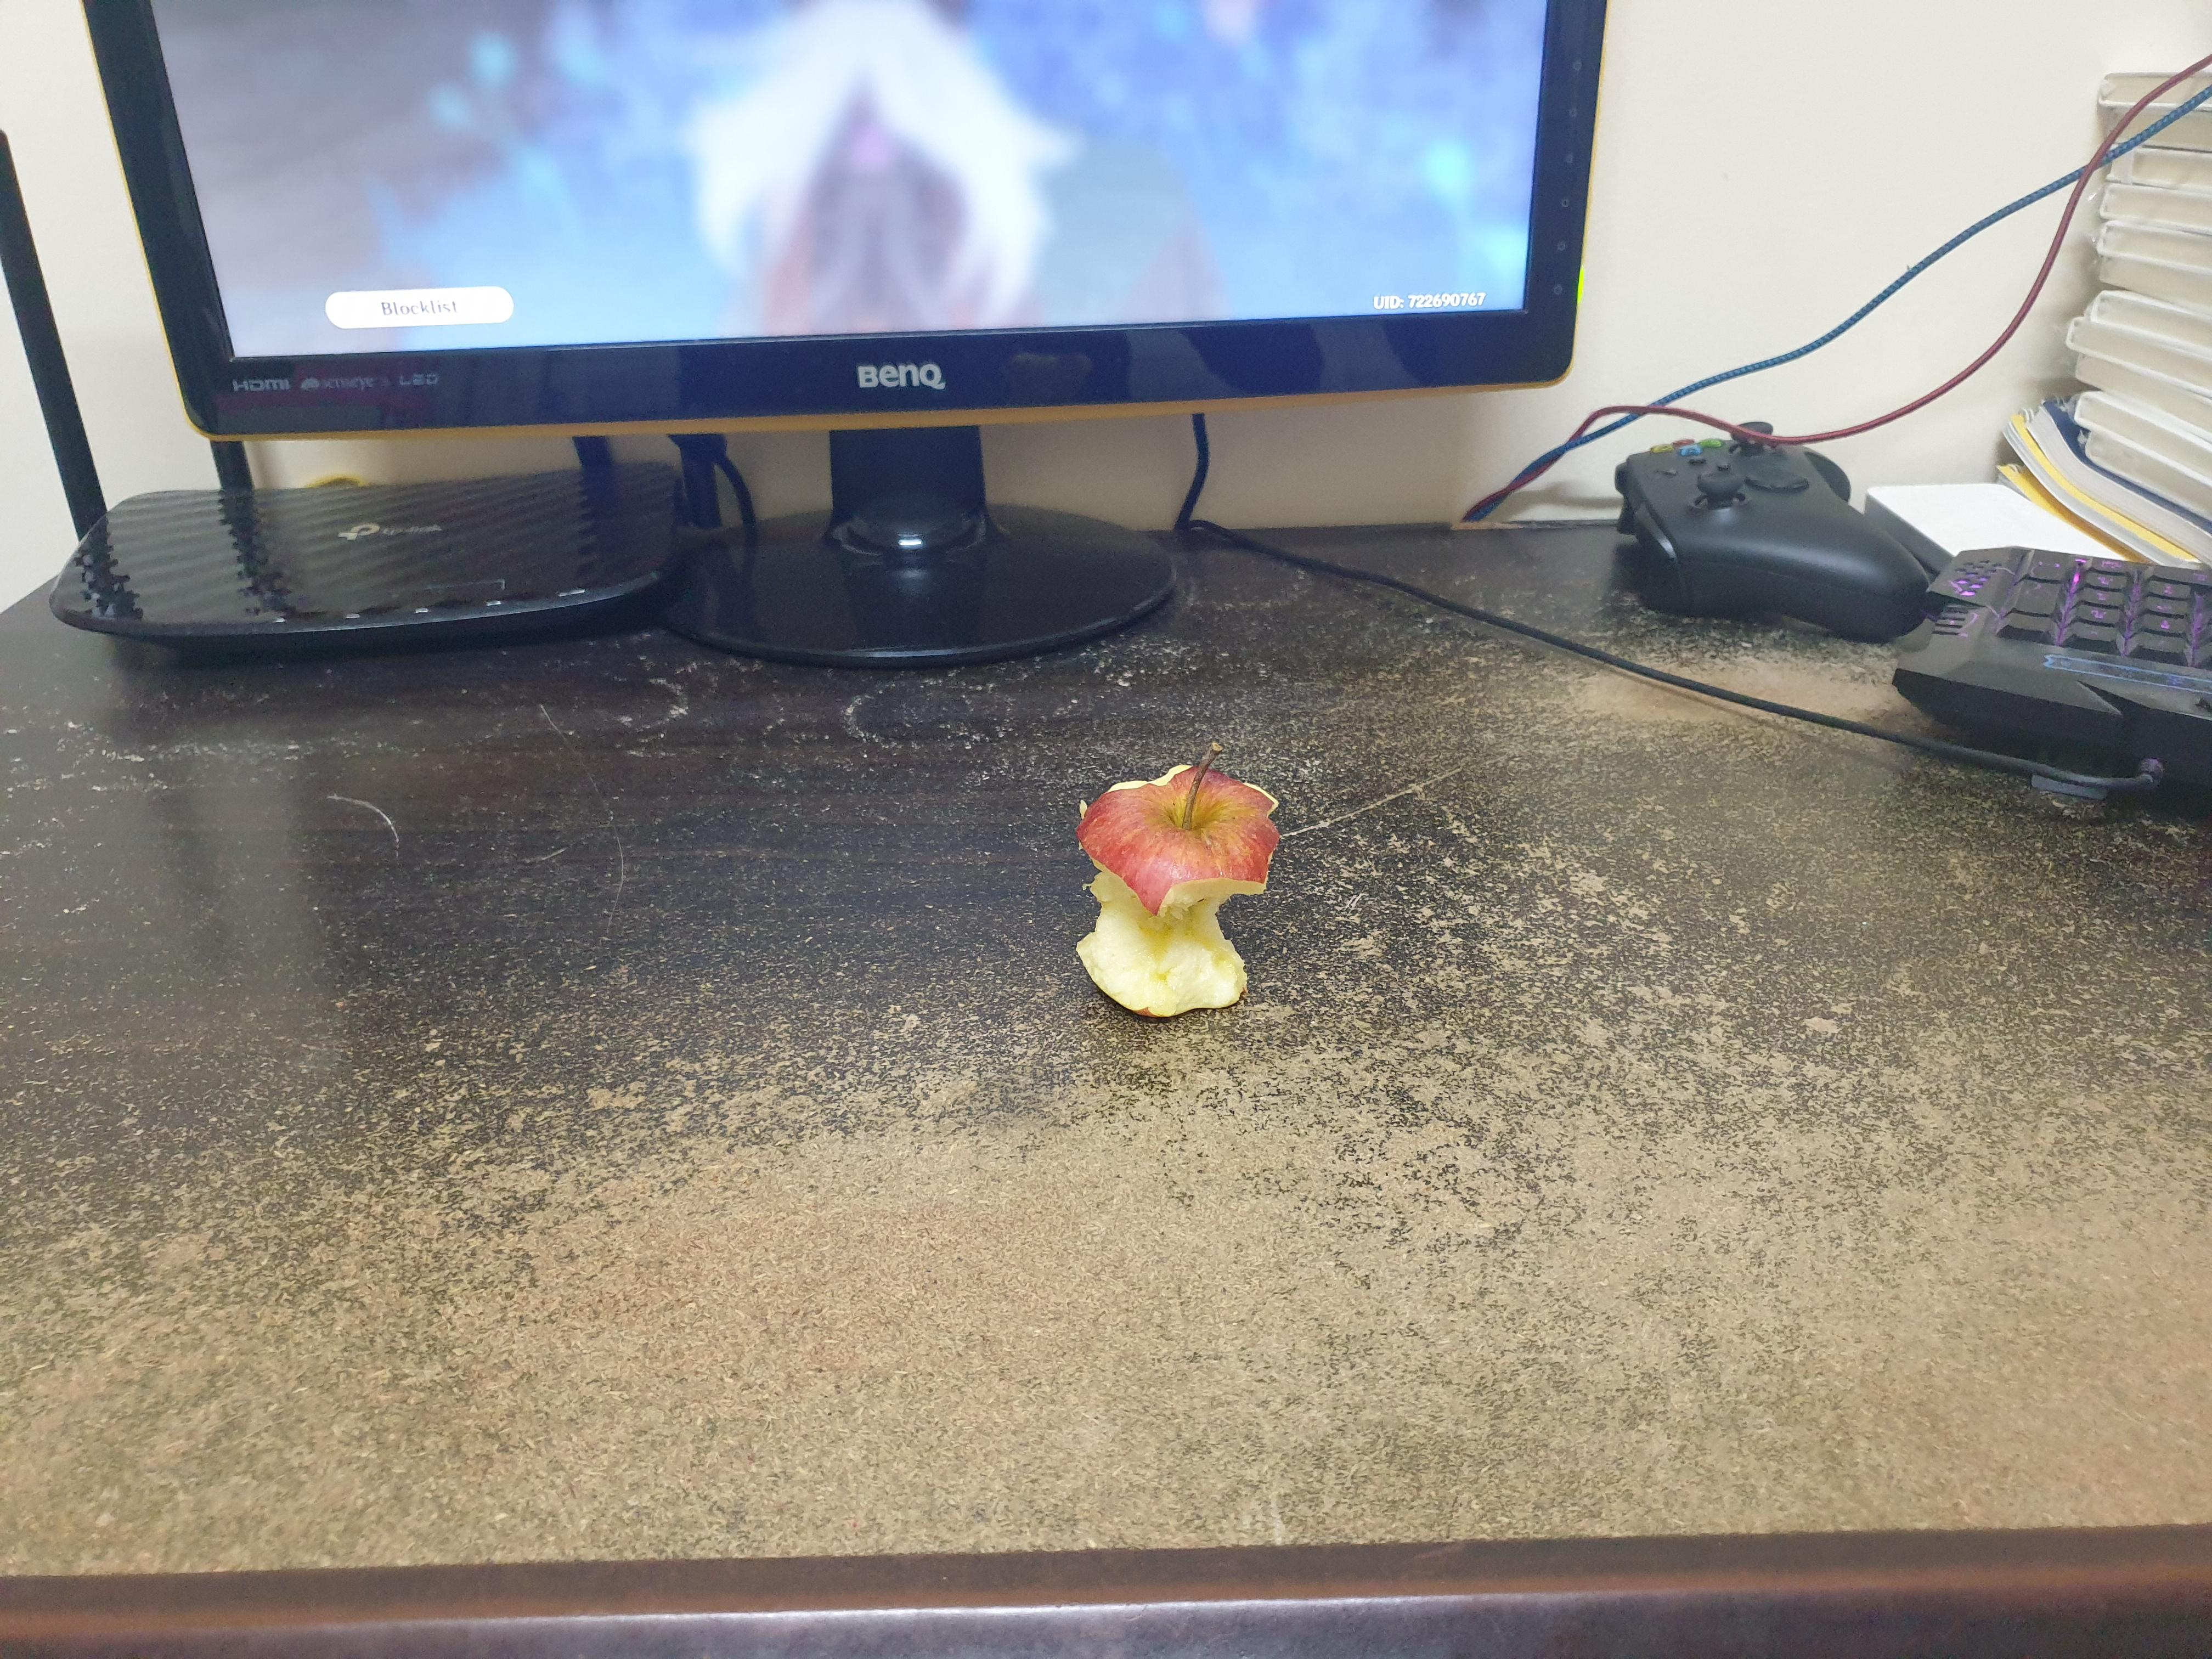Apple: (1057, 739, 1287, 1051)
